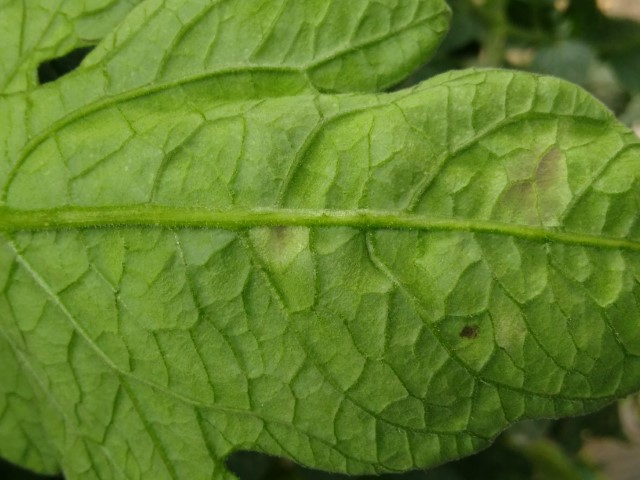cladosporium: (518, 141, 569, 217), (263, 220, 300, 253)
